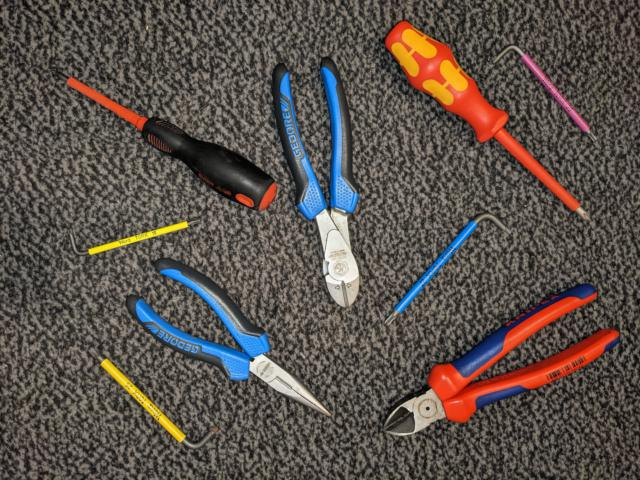Inbusschlüssel: (381, 209, 514, 330), (86, 343, 219, 452), (489, 42, 606, 154), (66, 215, 205, 261)
Schraubendreher: (377, 18, 603, 226), (44, 64, 283, 215)
Seitenschneider: (380, 281, 625, 440), (267, 53, 368, 312)
Zange: (121, 254, 339, 425)
